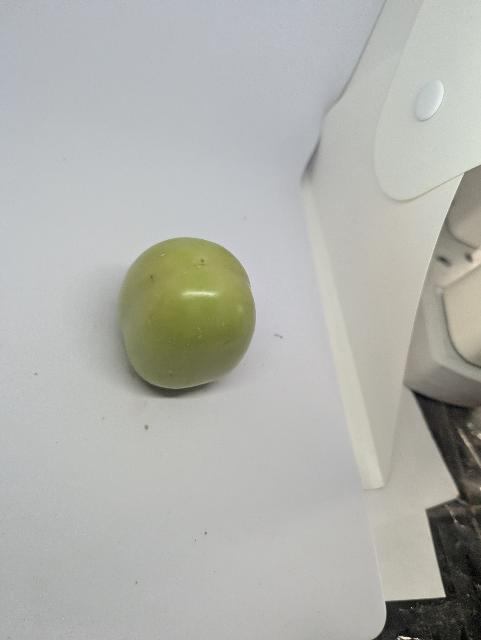green: (107, 231, 263, 409)
